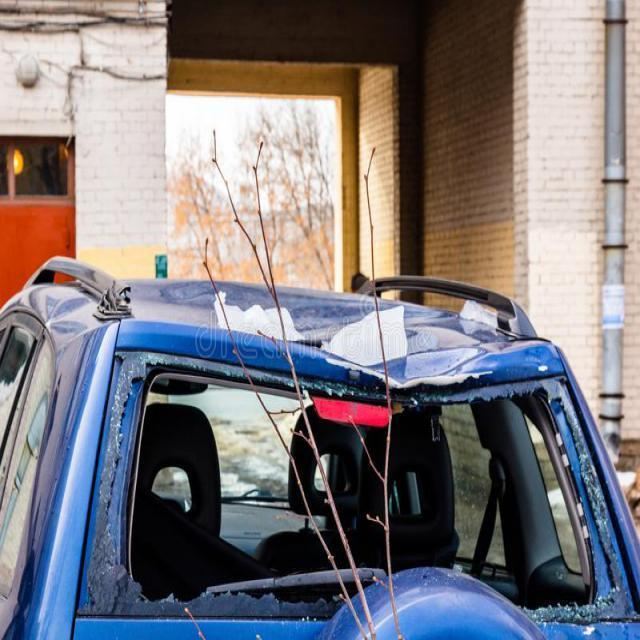Rear-windscreen-Damage: (79, 324, 639, 639)
roof-dent: (41, 272, 572, 396)
